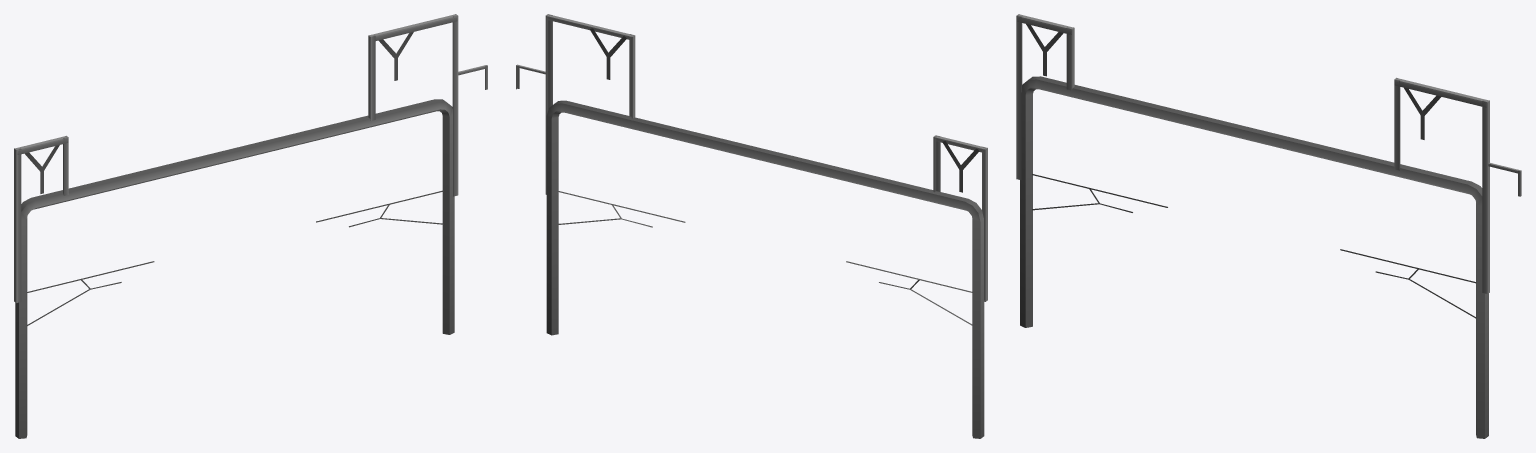
File: KASENCHU_SHINKAN_00.glb
3 views of the same model, side by side, from view 1: azimuth 30°, elevation 25°; view 2: azimuth 150°, elevation 25°; view 3: azimuth 330°, elevation 25° (orthographic). The views are drawn at different scales.
Parts seen in each view (by area): view 1: obj2; view 2: obj2; view 3: obj2.
Boxes of the visible parts, x1,y1,x2,y2 form: obj2: (14,14,487,438); obj2: (516,14,987,438); obj2: (1016,14,1521,438).
Size of the model in its own units: 55.75 by 35.73 by 1.27.
1 material, 1 textured.
